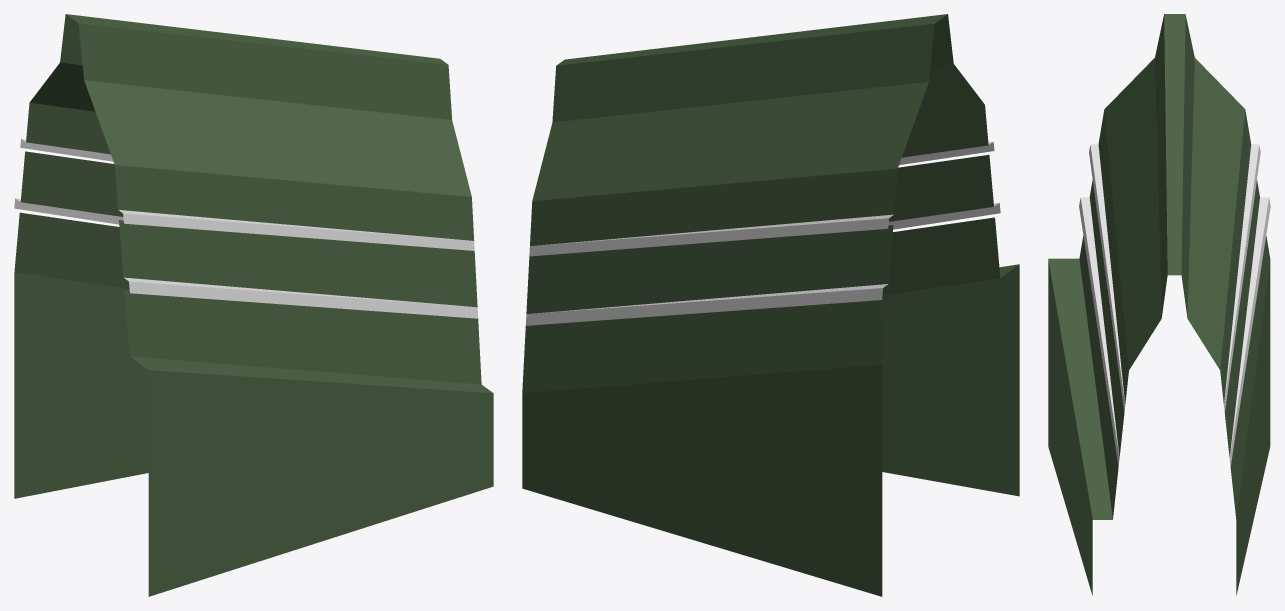
The model's file is Wand_Links.fbx.
The picture shows the model from 3 angles, left to right: view 1: azimuth 30°, elevation 25°; view 2: azimuth 150°, elevation 25°; view 3: azimuth 270°, elevation 25°; orthographic projection. The views are drawn at different scales.
Parts seen in each view (by area): view 1: Wand_Links; view 2: Wand_Links; view 3: Wand_Links.
Part boxes in pixels (x1=…): Wand_Links: x1=14, y1=14, x2=493, y2=596; Wand_Links: x1=522, y1=14, x2=1019, y2=596; Wand_Links: x1=1048, y1=14, x2=1270, y2=595.
Bounding box in the file's own units: 100 × 134 × 62.51.
